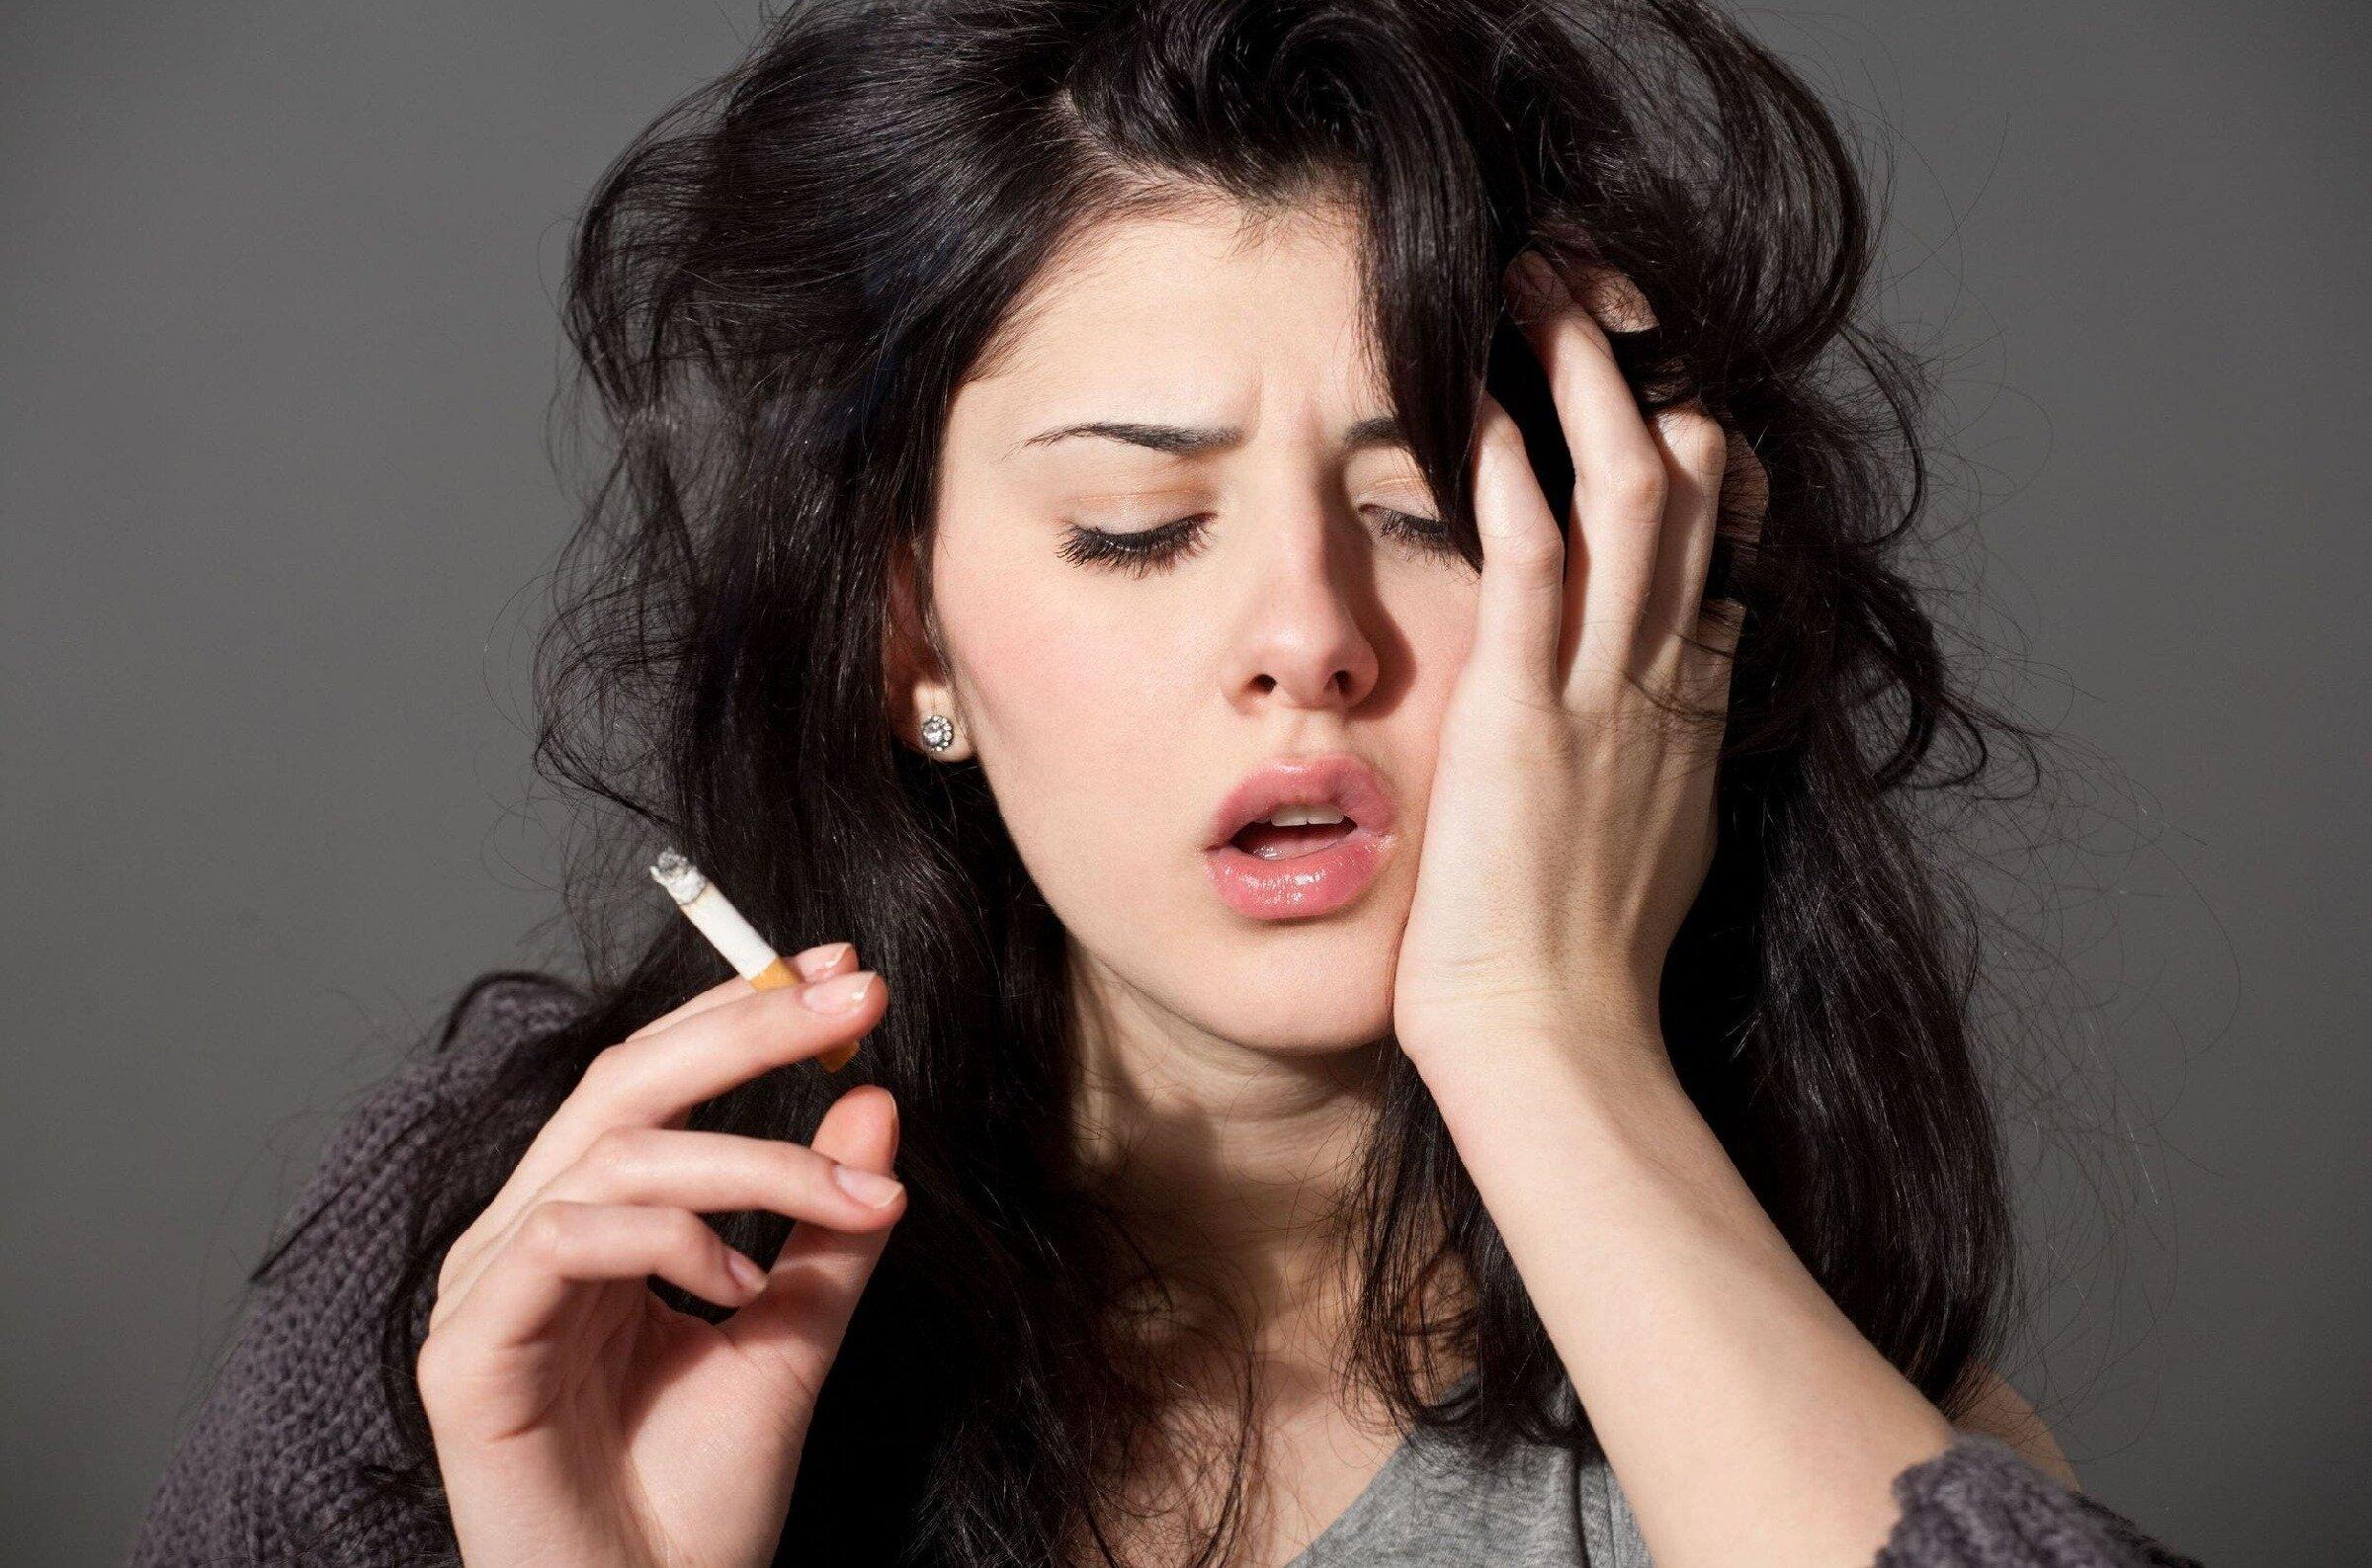cigarette: (649, 852, 861, 1074)
